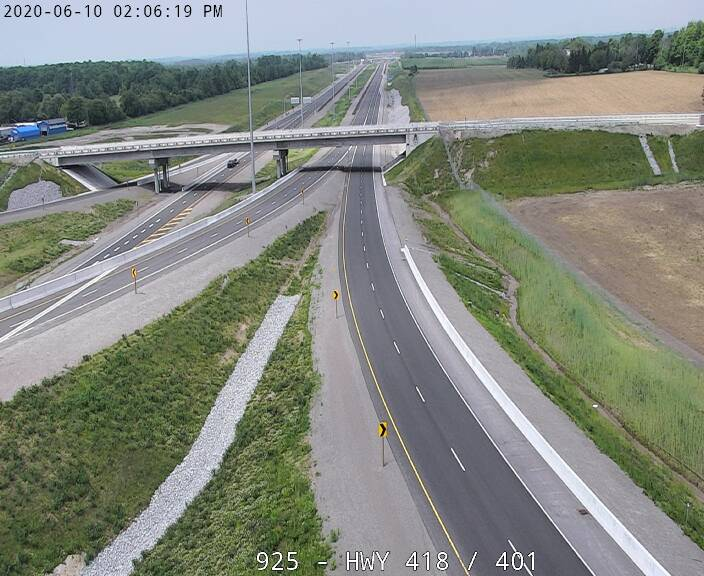time_stamp: (1, 1, 197, 23)
